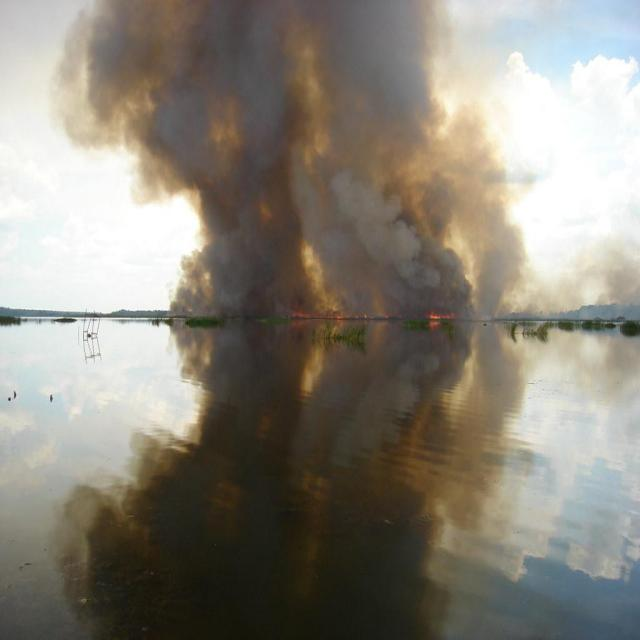Fire: (430, 310, 456, 321)
